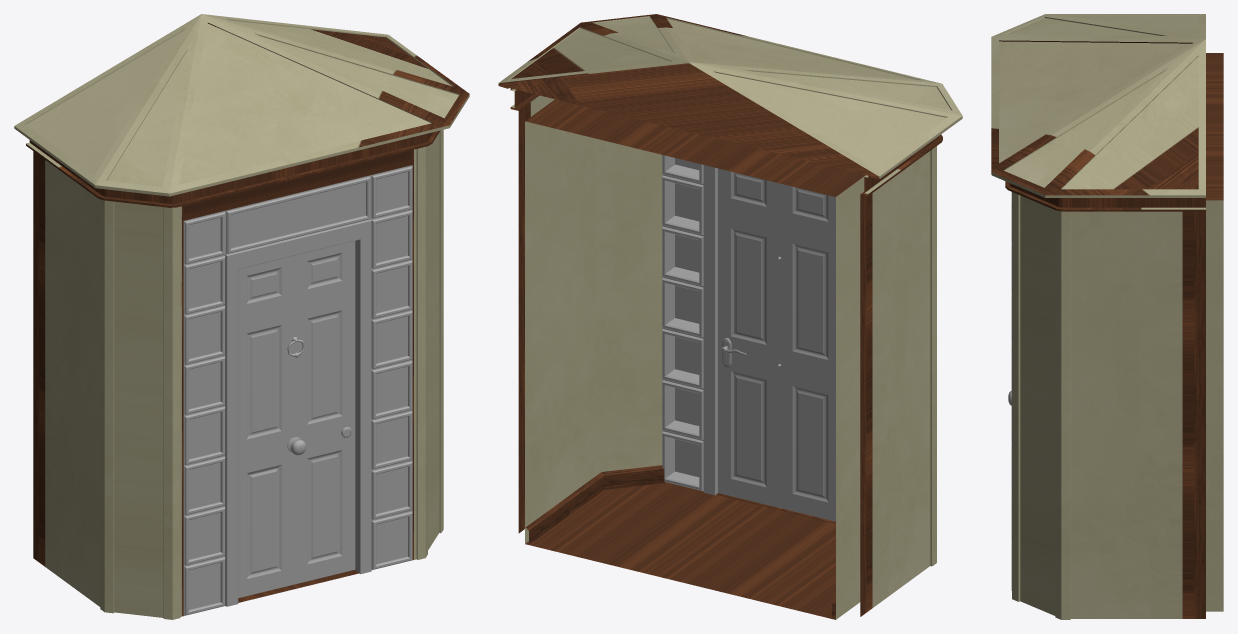
Rendered from Entrance_2x1_House.fbx.
3 renders of one model, left to right at view 1: azimuth 30°, elevation 25°; view 2: azimuth 150°, elevation 25°; view 3: azimuth 270°, elevation 25°, orthographic. The views are drawn at different scales.
Parts seen in each view (by area): view 1: Entrance_2x1_House, Entrance_2x1_House_Wall_Outside, Entrance_2x1_House_Roof, Entrance_2x1_House_Door_Layout, Entrance_2x1_House_Door_Layout_Glass, Entrance_2x1_House_Roof_Relief, Entrance_2x1_House_Door_Joint; view 2: Entrance_2x1_House_Wall_Inside, Entrance_2x1_House, Entrance_2x1_House_Roof, Entrance_2x1_House_Wall_Outside, Entrance_2x1_House_Floor, Entrance_2x1_House_Door_Layout, Entrance_2x1_House_Roof_Relief, Entrance_2x1_House_Ceiling, Entrance_2x1_House_Door_Layout_Glass, Entrance_2x1_House_Wall_Inside_Plinth; view 3: Entrance_2x1_House_Wall_Outside, Entrance_2x1_House_Roof, Entrance_2x1_House, Entrance_2x1_House_Roof_Relief, Entrance_2x1_House_Wall_Inside, Entrance_2x1_House_Ceiling, Entrance_2x1_House_Door_Layout.
Boxes of the visible parts, <box> form: Entrance_2x1_House: <box>26,129,443,619</box>; Entrance_2x1_House_Wall_Outside: <box>33,133,439,617</box>; Entrance_2x1_House_Roof: <box>26,20,458,186</box>; Entrance_2x1_House_Door_Layout: <box>183,165,412,615</box>; Entrance_2x1_House_Door_Layout_Glass: <box>189,172,407,609</box>; Entrance_2x1_House_Roof_Relief: <box>14,14,469,196</box>; Entrance_2x1_House_Door_Joint: <box>238,570,358,602</box>; Entrance_2x1_House_Wall_Inside: <box>525,121,865,619</box>; Entrance_2x1_House: <box>510,88,942,566</box>; Entrance_2x1_House_Roof: <box>499,17,950,178</box>; Entrance_2x1_House_Wall_Outside: <box>518,95,930,616</box>; Entrance_2x1_House_Floor: <box>525,482,835,619</box>; Entrance_2x1_House_Door_Layout: <box>662,155,717,495</box>; Entrance_2x1_House_Roof_Relief: <box>498,14,962,178</box>; Entrance_2x1_House_Ceiling: <box>525,99,865,196</box>; Entrance_2x1_House_Door_Layout_Glass: <box>675,158,699,477</box>; Entrance_2x1_House_Wall_Inside_Plinth: <box>525,465,835,618</box>; Entrance_2x1_House_Wall_Outside: <box>1020,195,1205,618</box>; Entrance_2x1_House_Roof: <box>999,15,1198,189</box>; Entrance_2x1_House: <box>1005,181,1205,619</box>; Entrance_2x1_House_Roof_Relief: <box>991,14,1205,197</box>; Entrance_2x1_House_Wall_Inside: <box>1206,200,1223,611</box>; Entrance_2x1_House_Ceiling: <box>1206,53,1223,200</box>; Entrance_2x1_House_Door_Layout: <box>1011,192,1011,590</box>.
Bounding box in the file's own units: 246 × 316 × 133.
Materials: 2 (1 with a texture image).
